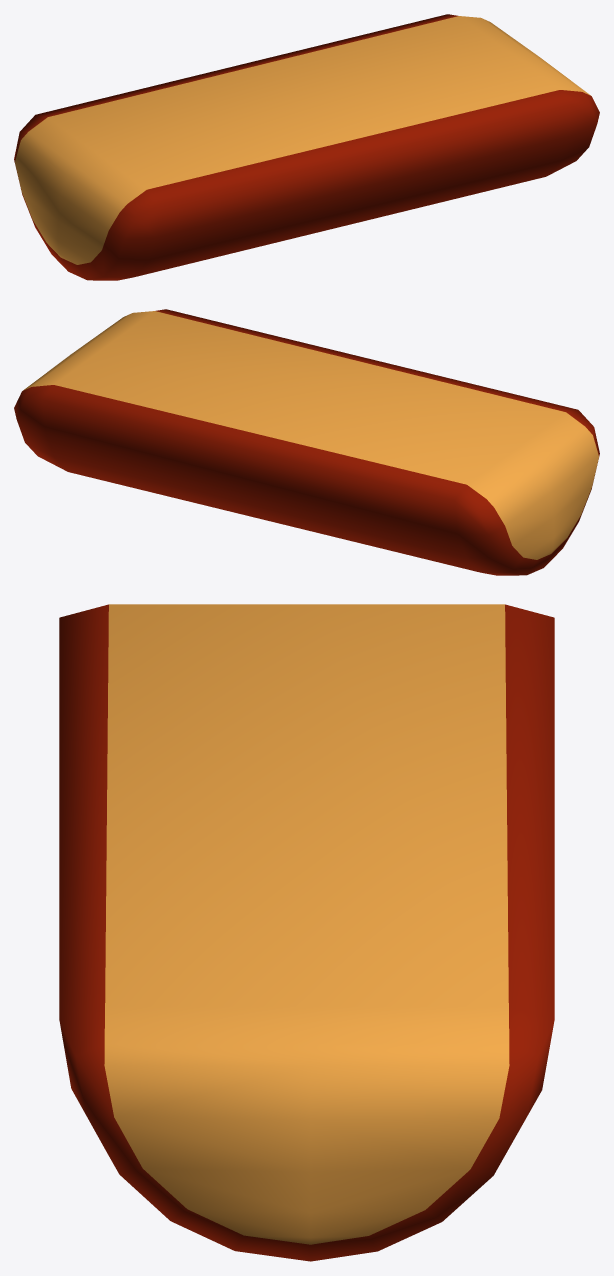
File: MovingLog.fbx
3 views of the same model, one above another, from view 1: azimuth 30°, elevation 25°; view 2: azimuth 150°, elevation 25°; view 3: azimuth 270°, elevation 25° (orthographic). The views are drawn at different scales.
Parts seen in each view (by area): view 1: MovingLog; view 2: MovingLog; view 3: MovingLog.
Part boxes in pixels (box(x1,y1,x2,y2)): MovingLog: box(14, 14, 599, 280); MovingLog: box(14, 309, 599, 575); MovingLog: box(59, 604, 554, 1261).
Bounding box in the file's own units: 1.93 × 0.4404 × 0.8319.
